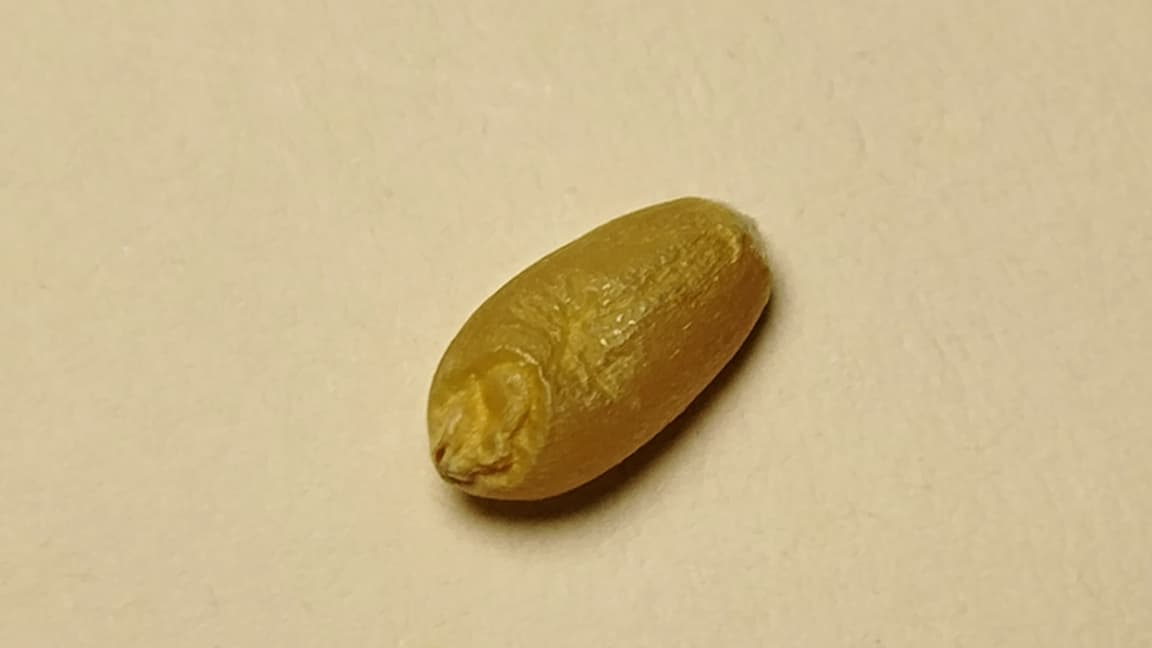healthy: (427, 196, 771, 499)
